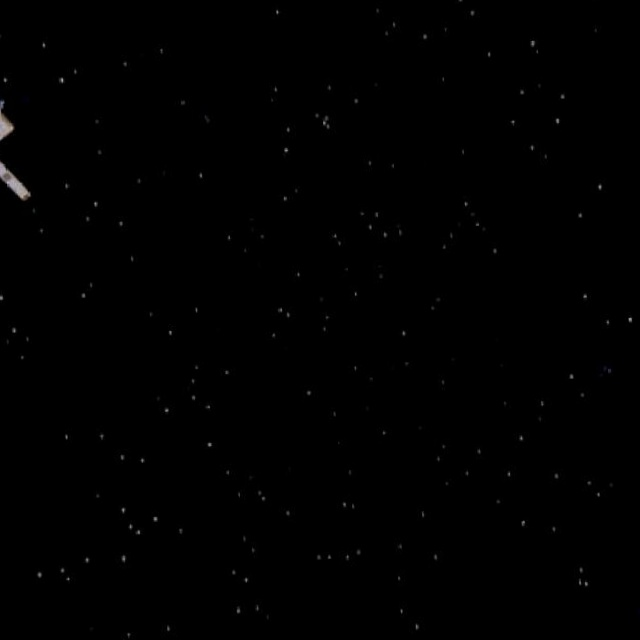medium_debris: (0, 82, 33, 213)
